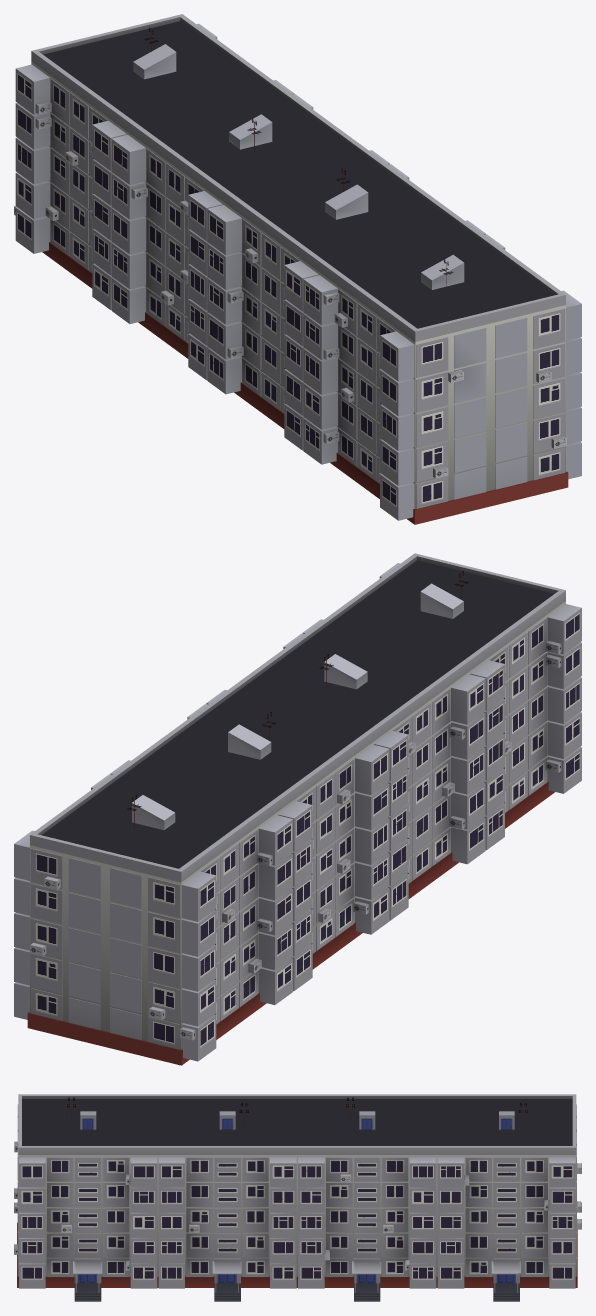
The model's file is bld_p5.glb.
3 views of the same model, one above another, from view 1: azimuth 30°, elevation 25°; view 2: azimuth 150°, elevation 25°; view 3: azimuth 270°, elevation 25° (orthographic). The views are drawn at different scales.
Parts seen in each view (by area): view 1: body|Stairs.001, body|Main_Forward_Texture, body|Roof.001, body|Main_Back_Texture.001, body|material, body|material_11, body|material_14, body|202.001, body|302.001, body|Red_Concern, body|Material.076, body|304L (+7 smaller); view 2: body|Stairs.001, body|Main_Forward_Texture, body|Roof.001, body|Main_Back_Texture.001, body|302.001, body|material_11, body|material, body|material_14, body|202.001, body|Red_Concern, body|Material.076, body|305L (+7 smaller); view 3: body|Stairs.001, body|Entrance.001, body|Roof.001, body|Main_Back_Texture.001, body|material, body|Main_Forward_Texture, body|material_14, body|302.001, body|202.001, body|material_11, body|205L.001, body|304L (+9 smaller).
Boxes of the visible parts, <box> form: body|Stairs.001: <box>43,21,554,328</box>; body|Main_Forward_Texture: <box>16,23,581,520</box>; body|Roof.001: <box>31,14,565,341</box>; body|Main_Back_Texture.001: <box>31,61,565,508</box>; body|material: <box>50,79,565,508</box>; body|material_11: <box>50,93,565,483</box>; body|material_14: <box>50,114,565,480</box>; body|202.001: <box>50,127,565,453</box>; body|302.001: <box>50,107,448,482</box>; body|Red_Concern: <box>42,242,568,524</box>; body|Material.076: <box>14,101,566,482</box>; body|304L: <box>92,139,398,520</box>; body|Stairs.001: <box>42,560,554,868</box>; body|Main_Forward_Texture: <box>14,563,581,1061</box>; body|Roof.001: <box>30,553,565,882</box>; body|Main_Back_Texture.001: <box>30,601,565,1049</box>; body|302.001: <box>30,632,546,1020</box>; body|material_11: <box>30,667,546,997</box>; body|material: <box>148,688,546,987</box>; body|material_14: <box>30,716,546,1022</box>; body|202.001: <box>30,618,546,1049</box>; body|Red_Concern: <box>27,782,554,1065</box>; body|Material.076: <box>30,640,561,1040</box>; body|305L: <box>198,678,581,991</box>; body|Stairs.001: <box>22,1099,572,1301</box>; body|Entrance.001: <box>74,1157,519,1257</box>; body|Roof.001: <box>18,1094,576,1292</box>; body|Main_Back_Texture.001: <box>18,1155,576,1276</box>; body|material: <box>47,1157,491,1276</box>; body|Main_Forward_Texture: <box>17,1104,576,1276</box>; body|material_14: <box>47,1157,547,1276</box>; body|302.001: <box>47,1183,547,1276</box>; body|202.001: <box>47,1157,547,1276</box>; body|material_11: <box>47,1157,547,1276</box>; body|205L.001: <box>19,1163,575,1288</box>; body|304L: <box>130,1188,575,1288</box>.
Bounding box in the file's own units: 16.24 × 16.5 × 53.
23 materials, 23 textured.
